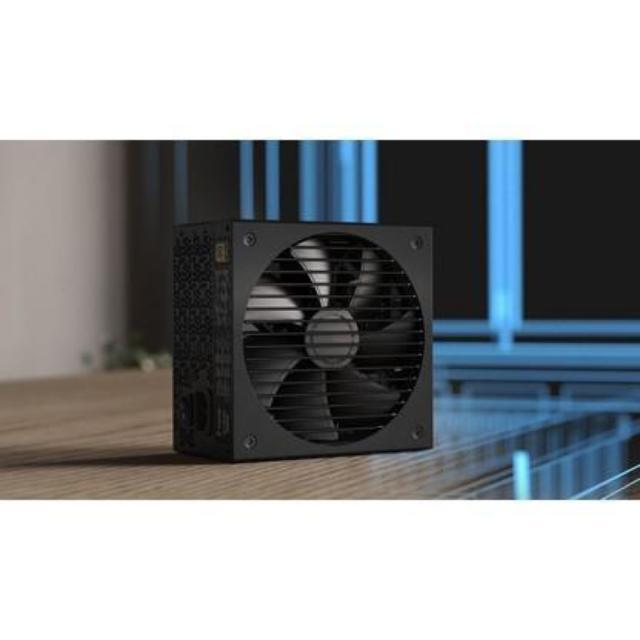PSU: (160, 192, 452, 464)
